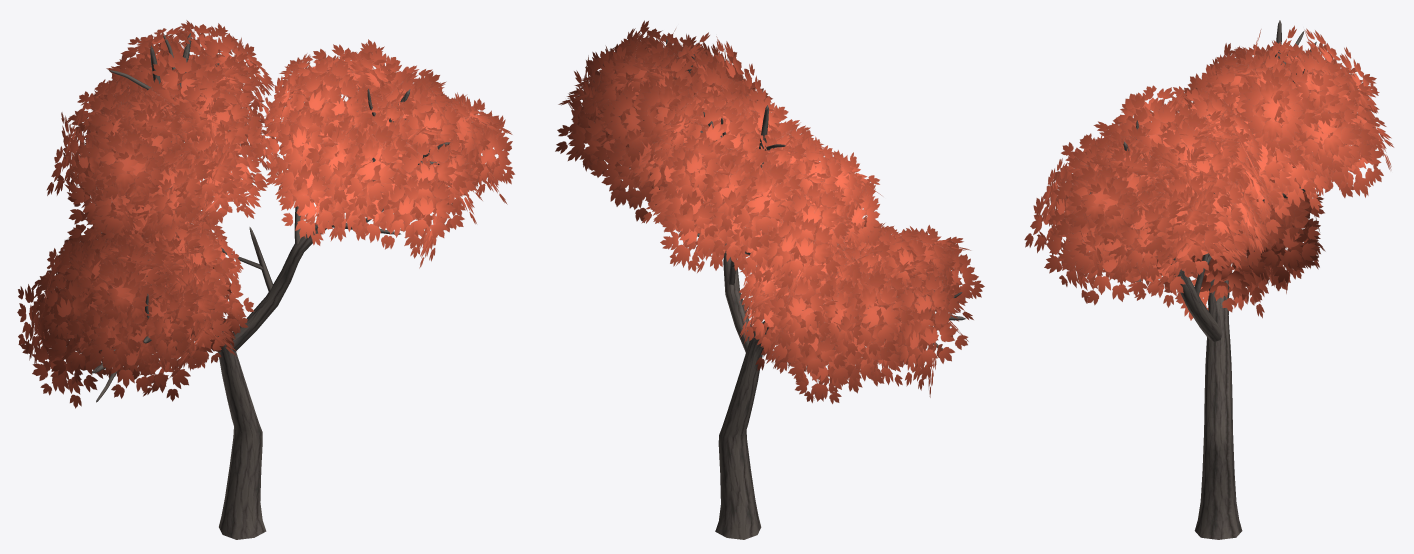
Rendered from MapleTree_5.glb.
3 renders of one model, left to right at view 1: azimuth 30°, elevation 25°; view 2: azimuth 150°, elevation 25°; view 3: azimuth 270°, elevation 25°, orthographic. The views are drawn at different scales.
Parts seen in each view (by area): view 1: MapleTree_5; view 2: MapleTree_5; view 3: MapleTree_5.
Boxes of the visible parts, bbox=[...] form: MapleTree_5: bbox=[17, 20, 514, 539]; MapleTree_5: bbox=[555, 20, 984, 539]; MapleTree_5: bbox=[1024, 20, 1394, 539].
Bounding box in the file's own units: 7.01 × 7.28 × 5.08.
Materials: 2 (2 with a texture image).
